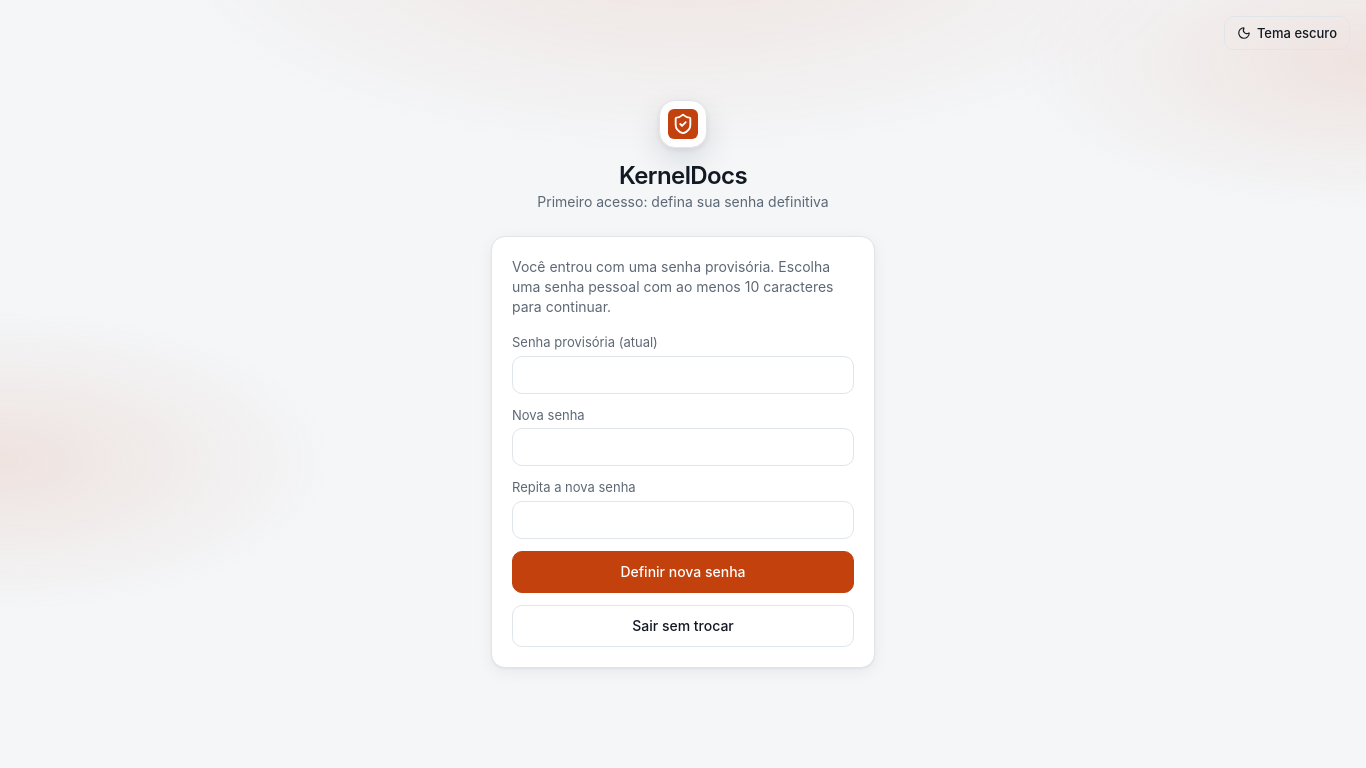
it: ChangePasswordPage › nova senha e confirmação diferentes mostram erro local
Expected: the heading "KernelDocs" is shown, x1=619 y1=161 x2=747 y2=190
Type "provisoria" into the password field labelled "Senha provisória (atual)" at (683, 375), box x1=512 y1=356 x2=854 y2=394
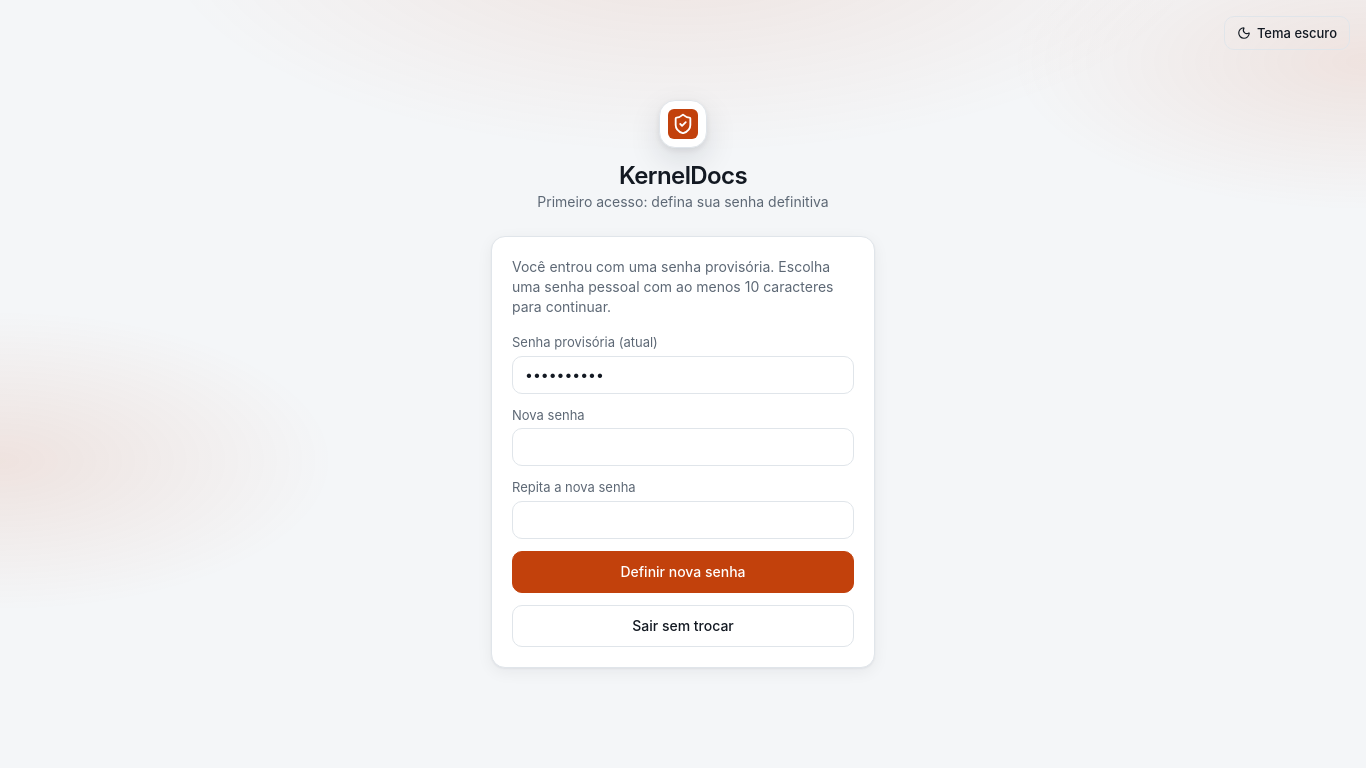
Type "senha-nova-12345" into the password field labelled "Nova senha" at (683, 447), box x1=512 y1=428 x2=854 y2=466
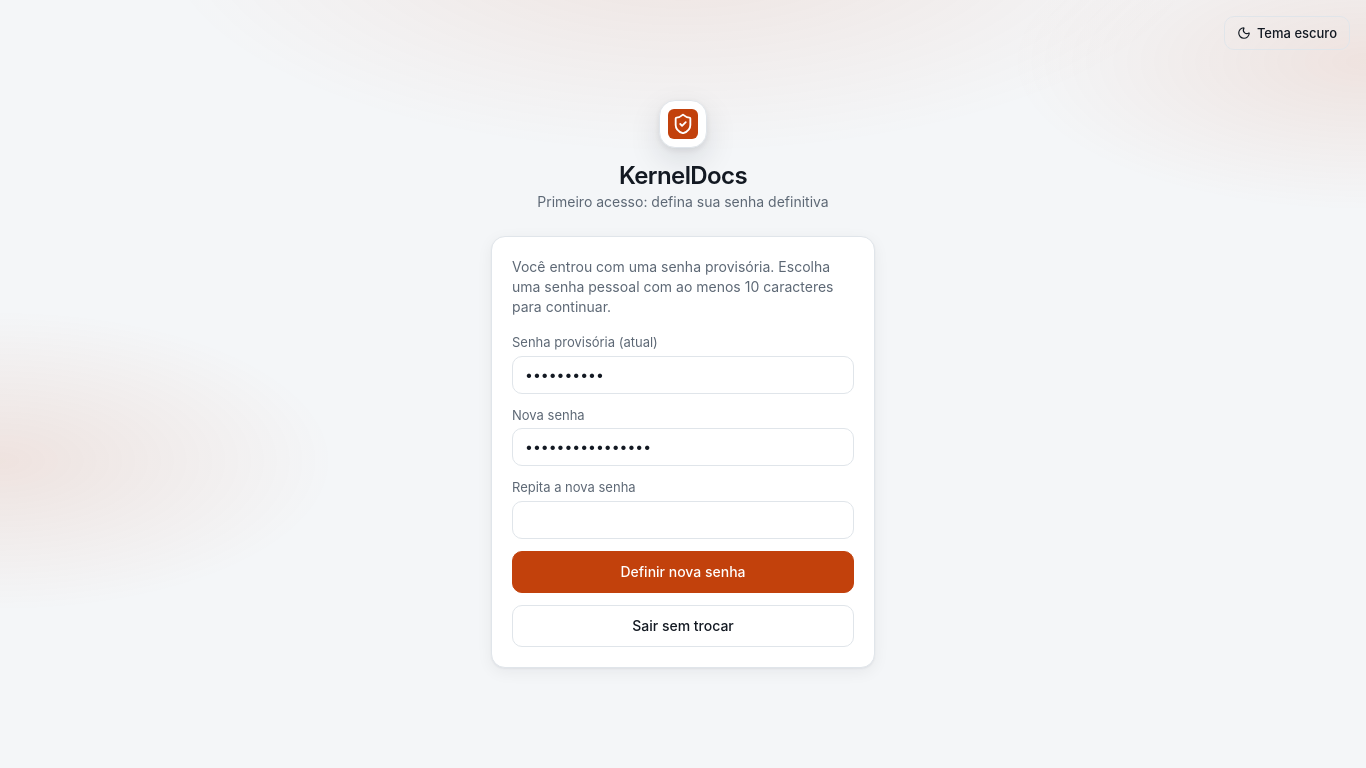
Type "outra-senha-99999" into the password field labelled "Repita a nova senha" at (683, 520), box x1=512 y1=501 x2=854 y2=539
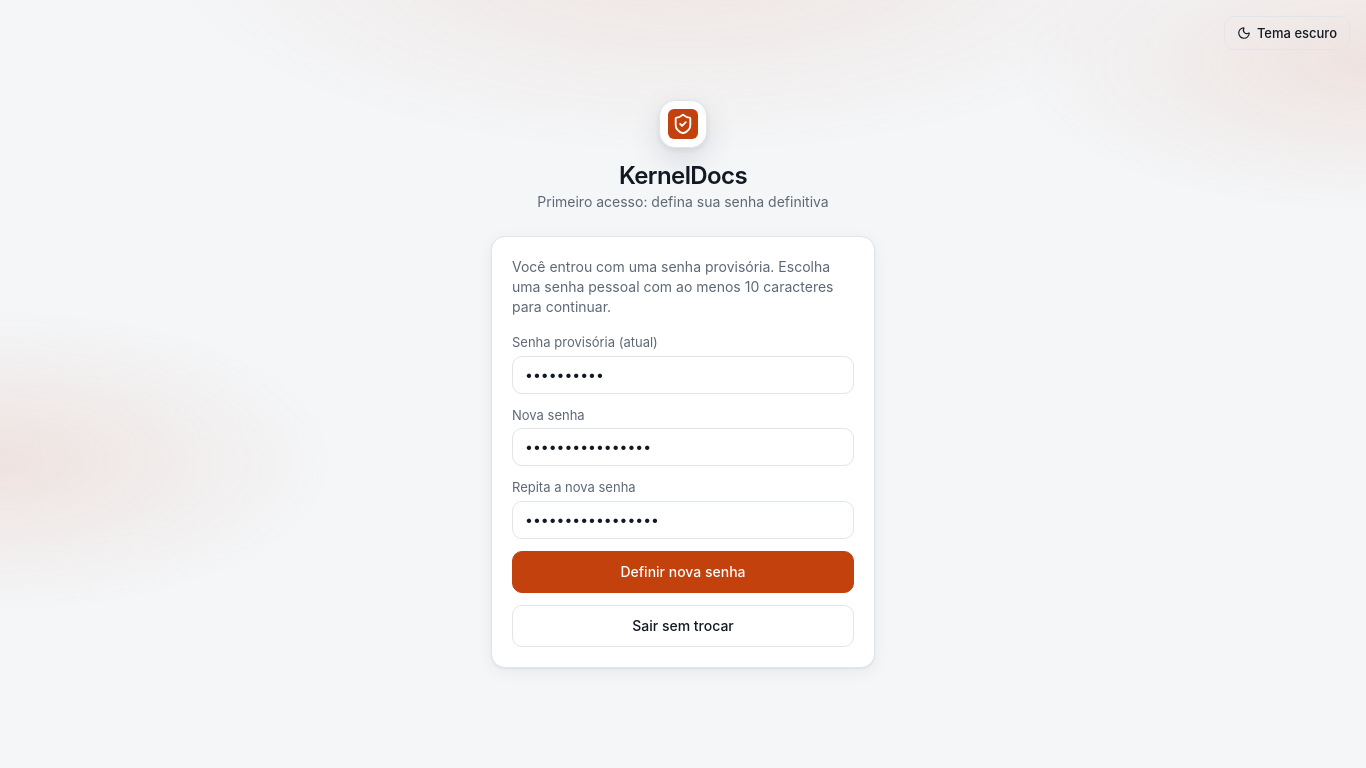
Click the button "Definir nova senha" at (683, 572), box x1=512 y1=551 x2=854 y2=593
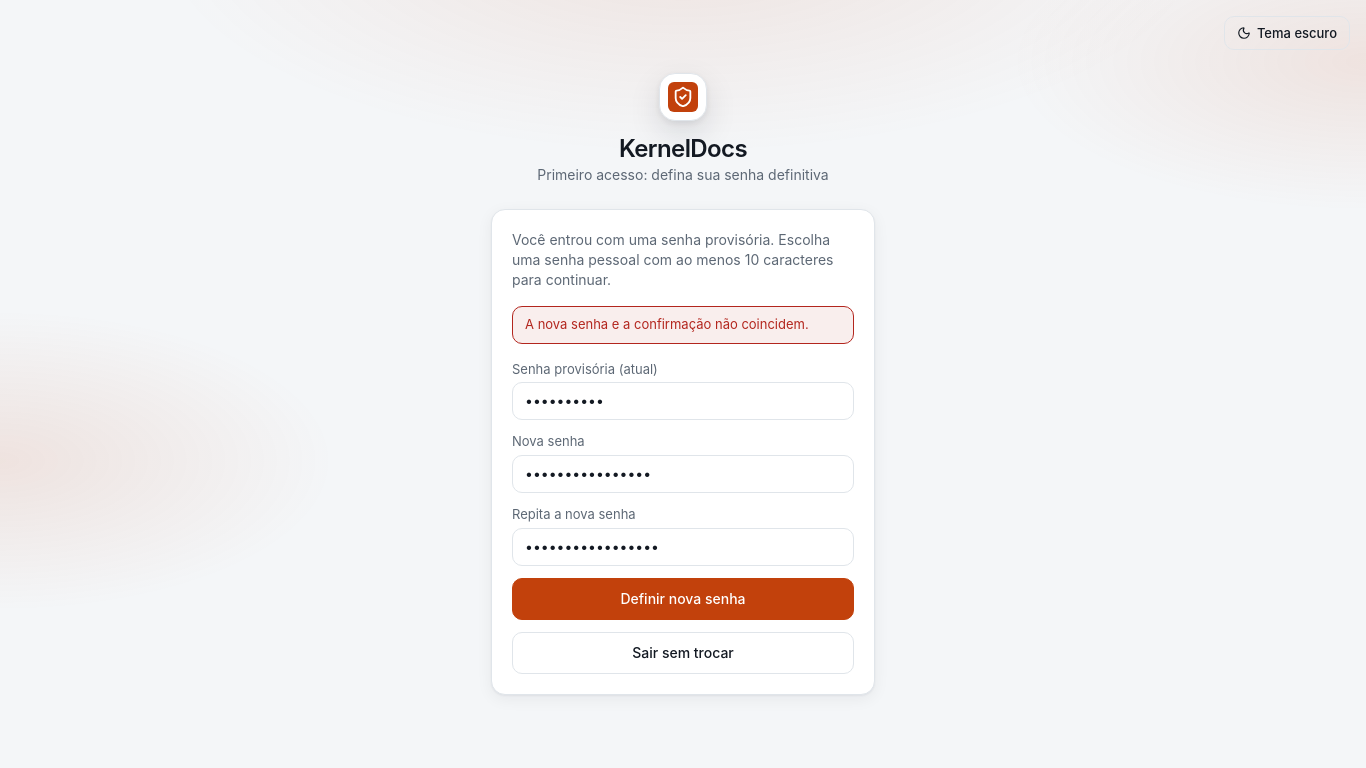
Now the message shows "não coincidem", box x1=525 y1=316 x2=809 y2=332
